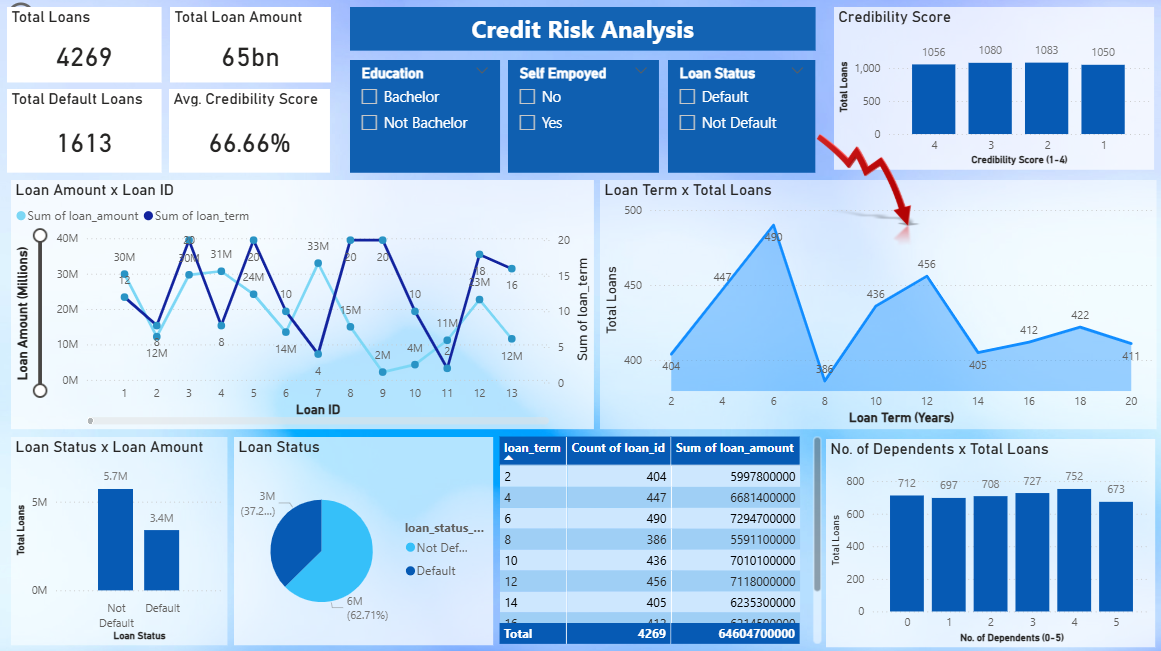

The page's visual inventory and layout, read from the dashboard file:
{"tool":"powerbi","page":{"name":"Page 1","canvas":[1280,720],"ordinal":0},"visuals":[{"type":"textbox","box":[475.5,60.6,331.6,48.5],"z":0},{"type":"columnChart","title":"No. of Dependents x Total Loans","fields":{"Y":["CountNonNull(credit_risk_predictio.loan_id)"],"Category":["credit_risk_predictio.no_of_dependents"]},"box":[888.8,484.5,381.6,222.6],"z":1000},{"type":"clusteredColumnChart","title":"Loan Status x Loan Amount","fields":{"Y":["Sum(credit_risk_predictio.loan_id)"],"Category":["credit_risk_predictio.loan_status_label"]},"box":[12.1,484.5,237.7,222.6],"z":2000},{"type":"slicer","fields":{"Values":["credit_risk_predictio.education2"]},"box":[575.4,145.1,149.9,93.9],"z":3000},{"type":"slicer","fields":{"Values":["credit_risk_predictio.loan_status_label"]},"box":[734.4,145.1,154.4,93.9],"z":4000},{"type":"lineChart","title":"Loan Amount x Loan ID","fields":{"Category":["credit_risk_predictio.loan_id"],"Y":["Sum(credit_risk_predictio.loan_amount)"],"Y2":["Sum(credit_risk_predictio.loan_term)"]},"box":[12.8,251.6,640.5,222.5],"z":5000},{"type":"pieChart","title":"Loan Status","fields":{"Y":["Sum(credit_risk_predictio.loan_id)"],"Category":["credit_risk_predictio.loan_status_label"]},"box":[257.4,484.5,284.7,224.1],"z":6000},{"type":"slicer","fields":{"Values":["credit_risk_predictio.self_employed2"]},"box":[402.8,145.1,163.5,93.9],"z":7000},{"type":"pivotTable","fields":{"Rows":["credit_risk_predictio.loan_term"],"Values":["CountNonNull(credit_risk_predictio.loan_id)","Sum(credit_risk_predictio.loan_amount)"]},"box":[549.2,484,333.3,222.2],"z":8000},{"type":"image","box":[811.6,0,169.6,216.5],"z":9000},{"type":"actionButton","box":[3,0,99.9,39.4],"z":10000},{"type":"columnChart","title":"Credibility Score","fields":{"Category":["credit_risk_predictio.cibil_score2"],"Y":["CountNonNull(credit_risk_predictio.loan_id)"]},"box":[985.9,38.9,284.9,204],"z":11000},{"type":"areaChart","title":"Loan Term x Total Loans","fields":{"Category":["credit_risk_predictio.loan_term"],"Y":["CountNonNull(credit_risk_predictio.loan_id)"]},"box":[660.6,251.6,610.8,222.5],"z":12000},{"type":"card","title":"Avg. Credibility","fields":{"Values":["credit_risk_predictio.Percentage of Average Credibility"]},"box":[205.9,145,153.8,92.3],"z":13000},{"type":"card","fields":{"Values":["Min(credit_risk_predictio.loan_status_label)"]},"box":[59.4,144.4,142.3,92.4],"z":14000}]}

Visuals, with their boxes in screenshot pixels (x1, y1, x2, y2), scaled from the page's 1280x720 canvas onto the 1161x651 screenshot:
textbox: 431:55:732:99
"No. of Dependents x Total Loans" columnChart: 806:438:1152:639
"Loan Status x Loan Amount" clusteredColumnChart: 11:438:227:639
slicer - credit_risk_predictio.education2: 522:131:658:216
slicer - credit_risk_predictio.loan_status_label: 666:131:806:216
"Loan Amount x Loan ID" lineChart: 12:227:593:429
"Loan Status" pieChart: 233:438:492:641
slicer - credit_risk_predictio.self_employed2: 365:131:514:216
pivotTable - credit_risk_predictio.loan_term x CountNonNull(credit_risk_predictio.loan_id): 498:438:800:639
image: 736:0:890:196
actionButton: 3:0:93:36
"Credibility Score" columnChart: 894:35:1153:220
"Loan Term x Total Loans" areaChart: 599:227:1153:429
"Avg. Credibility" card: 187:131:326:215
card - Min(credit_risk_predictio.loan_status_label): 54:131:183:214
